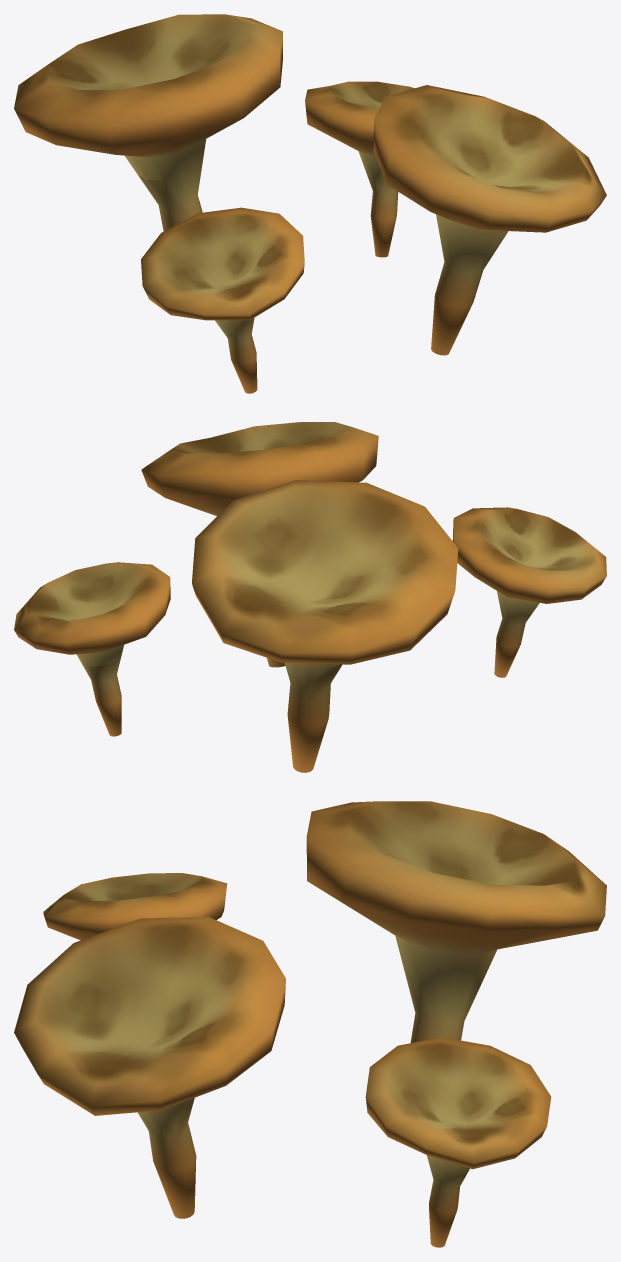
Rendered from Mushrooms.fbx.
3 views of the same model, one above another, from view 1: azimuth 30°, elevation 25°; view 2: azimuth 150°, elevation 25°; view 3: azimuth 270°, elevation 25° (orthographic). The views are drawn at different scales.
Visible parts, largest first — view 1: Cylinder.012; view 2: Cylinder.012; view 3: Cylinder.012.
Part boxes in pixels (x1,y1,x2,y2): Cylinder.012: [14, 14, 606, 393]; Cylinder.012: [14, 422, 606, 772]; Cylinder.012: [14, 801, 606, 1247].
Bounding box in the file's own units: 283 × 164 × 289.
1 material, 1 textured.
